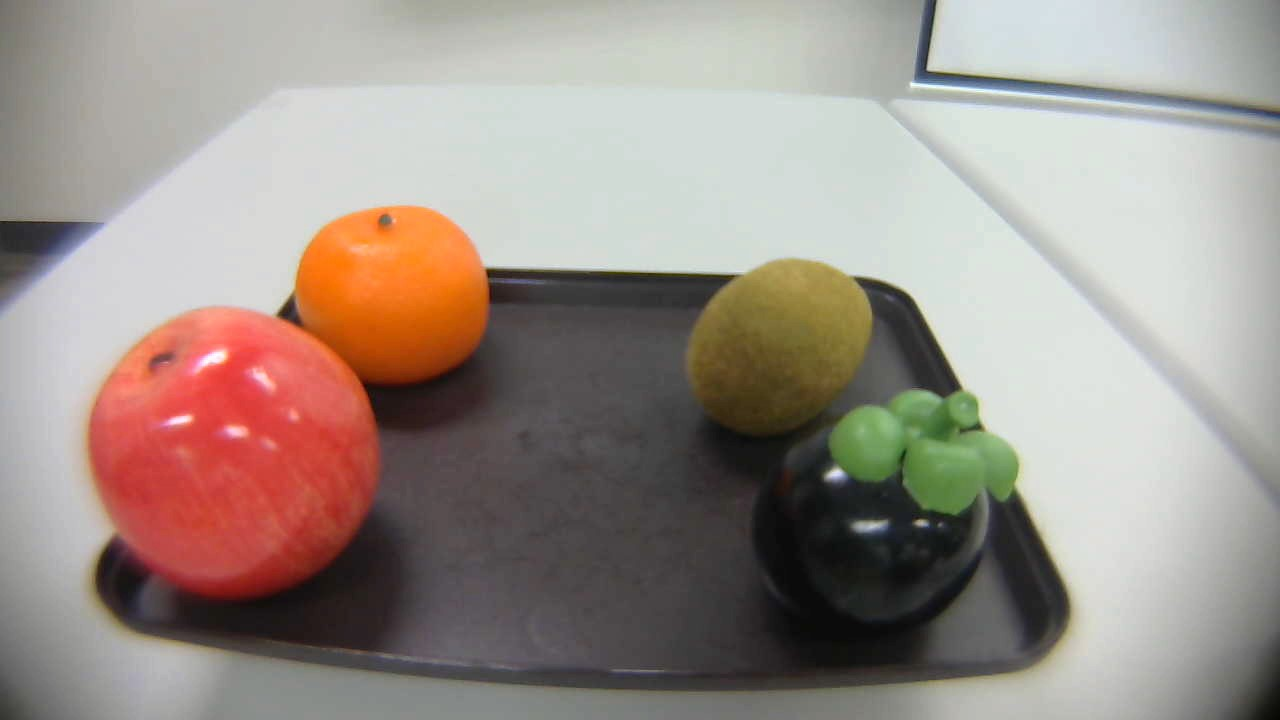kiwi fruit: (682, 253, 868, 433)
mangosteen: (737, 381, 1037, 655)
orange: (298, 196, 503, 401)
red apple: (82, 301, 392, 616)
